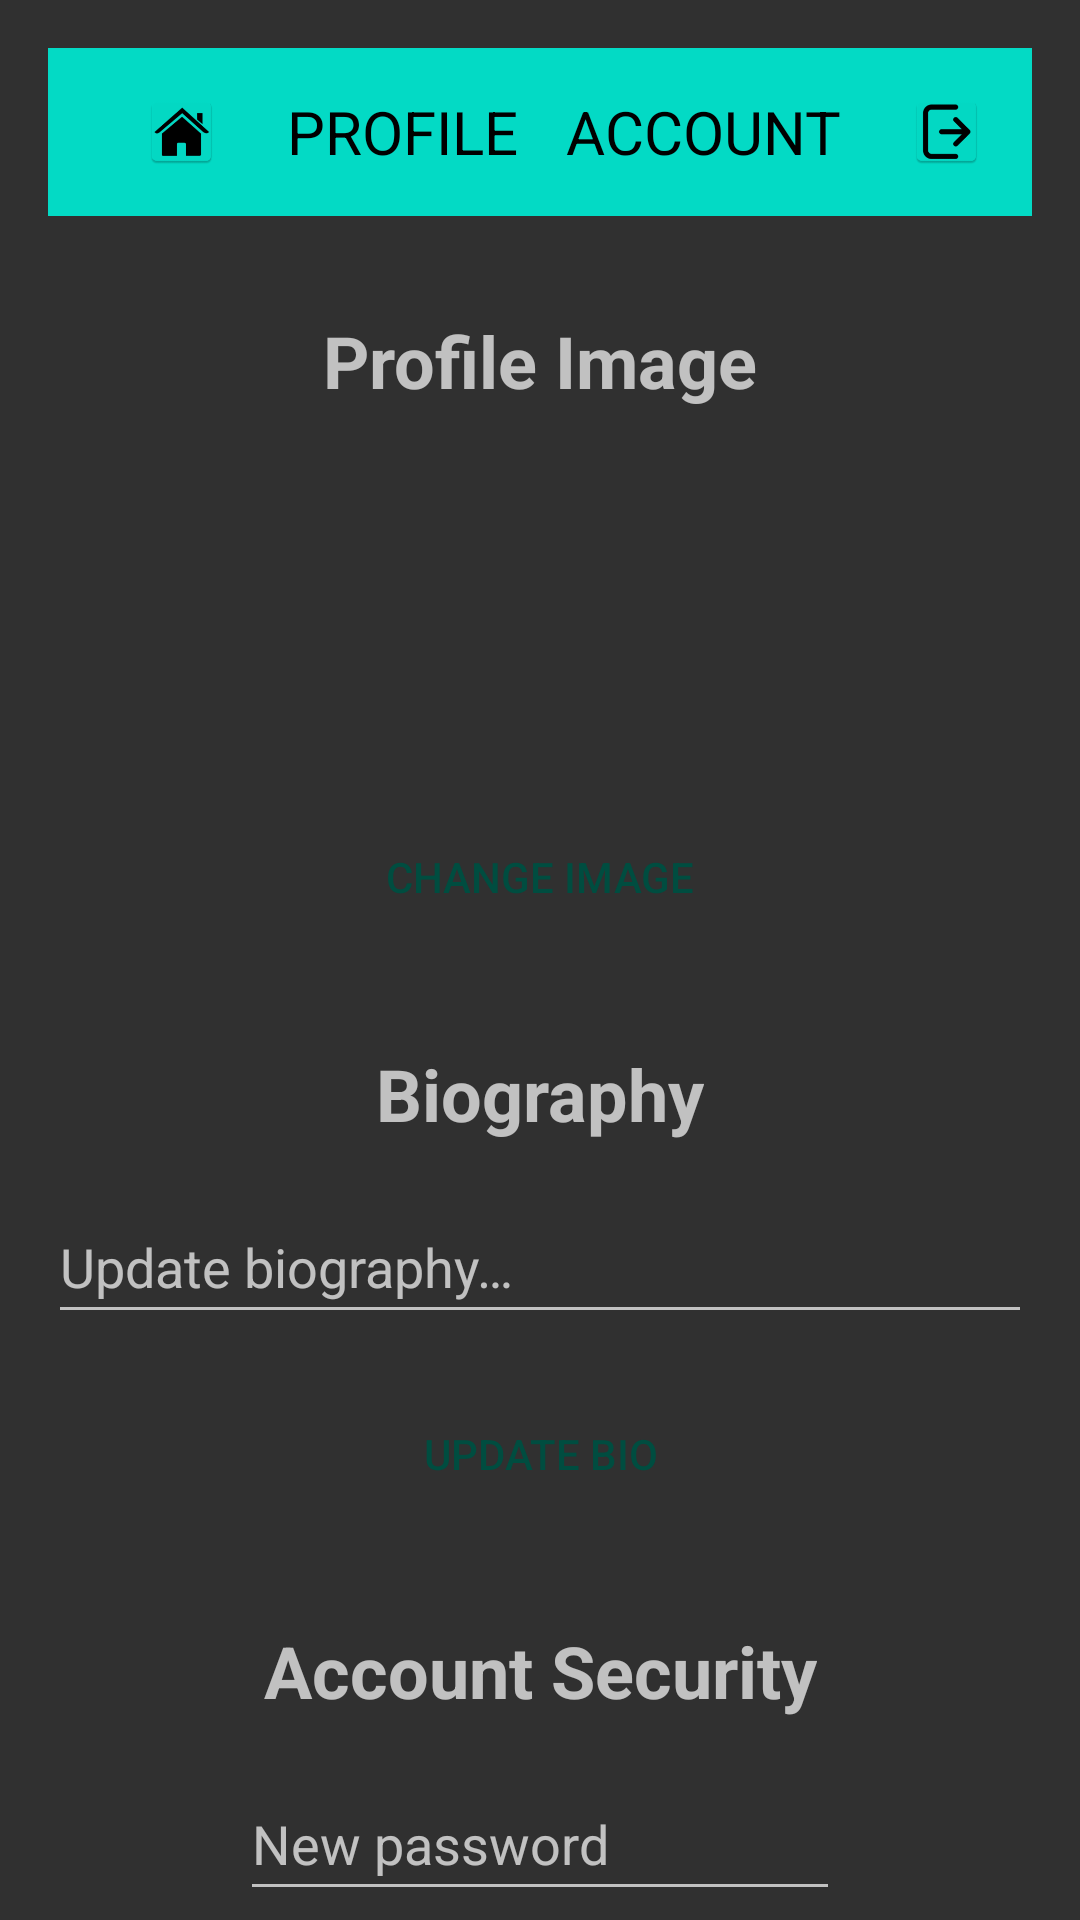

Icon bounding boxes for this 1080w x 1920h phone screenshot, format {"x1": x1, "y1": y1, "x2": x2, "y2": y2}:
Go to MainActivity: {"x1": 152, "y1": 107, "x2": 212, "y2": 163}
